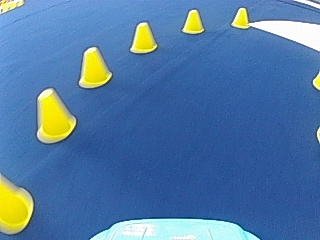cone: (34, 86, 77, 144), (0, 179, 33, 233), (77, 45, 112, 88), (130, 21, 159, 54), (181, 8, 204, 35), (231, 7, 249, 29), (312, 70, 319, 90)
